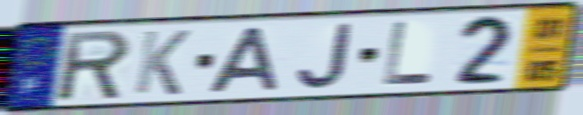2: (450, 12, 516, 90)
A: (205, 25, 282, 95)
J: (293, 20, 357, 92)
K: (131, 28, 194, 97)
L: (381, 20, 436, 88)
R: (57, 27, 134, 104)
